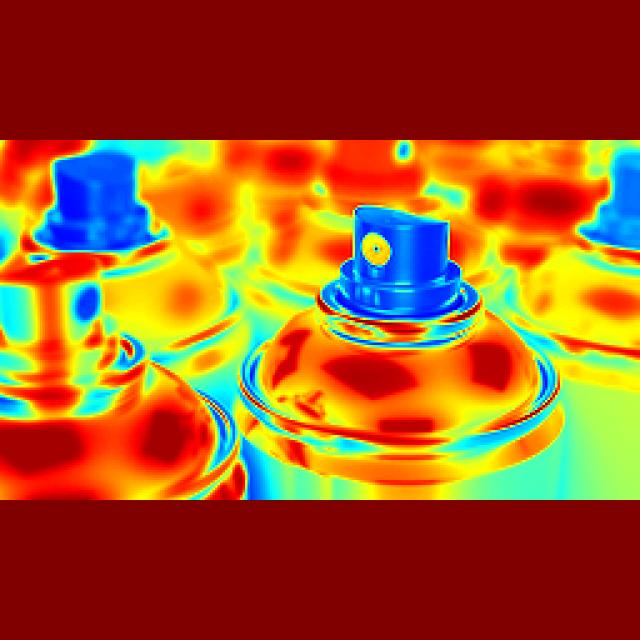Aerosol Cans: (264, 198, 571, 515)
